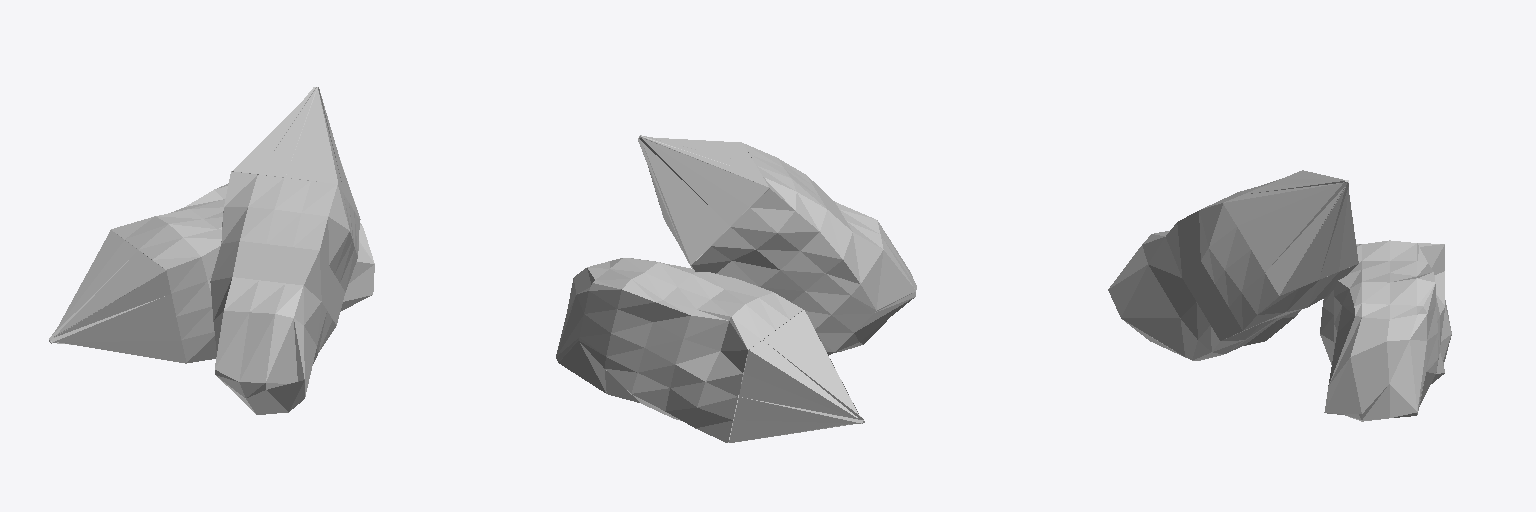
File: Flint.obj
3 views of the same model, side by side, from view 1: azimuth 30°, elevation 25°; view 2: azimuth 150°, elevation 25°; view 3: azimuth 270°, elevation 25° (orthographic).
Bounding box in the file's own units: 0.7788 × 0.5991 × 0.7663.